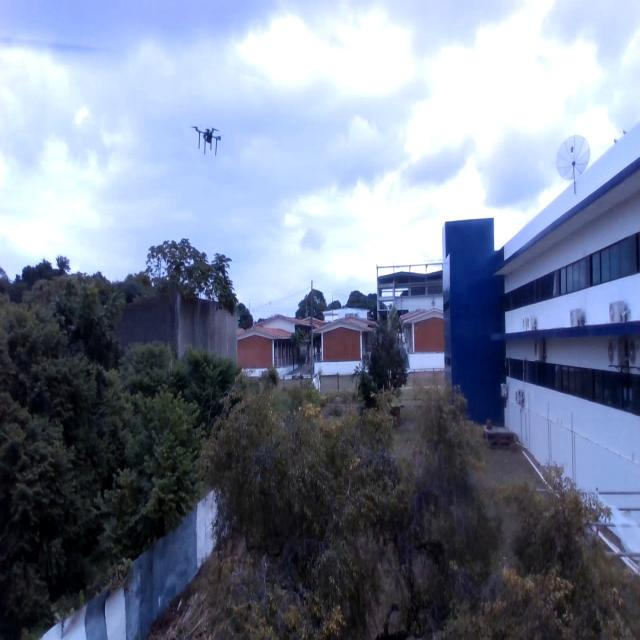-uav-: (188, 114, 224, 160)
